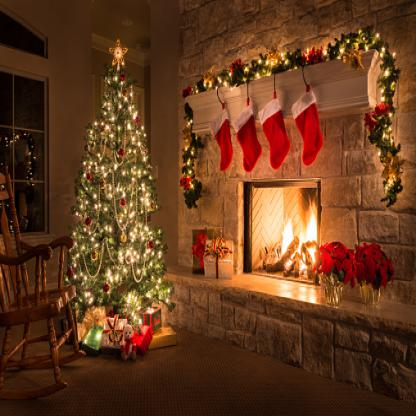present: (137, 300, 162, 338), (101, 323, 124, 351), (130, 334, 154, 351), (158, 328, 177, 347)
x_mas tree: (71, 21, 178, 314)
